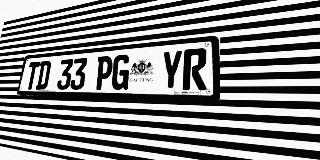3: (70, 58, 88, 90), (56, 59, 74, 90)
D: (35, 61, 52, 90)
G: (110, 54, 131, 90)
P: (94, 55, 114, 90)
R: (182, 48, 207, 90)
T: (25, 61, 40, 90)
Y: (160, 50, 183, 90)
